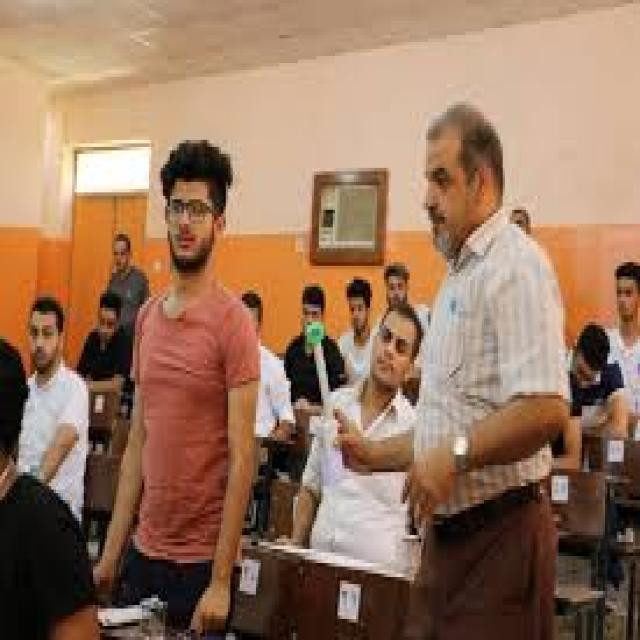cheating: (149, 122, 257, 309)
